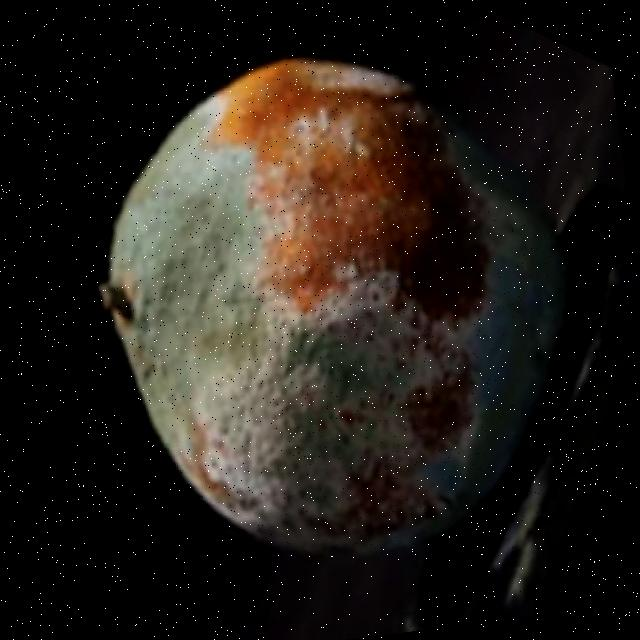rotten orange: (71, 25, 600, 582)
